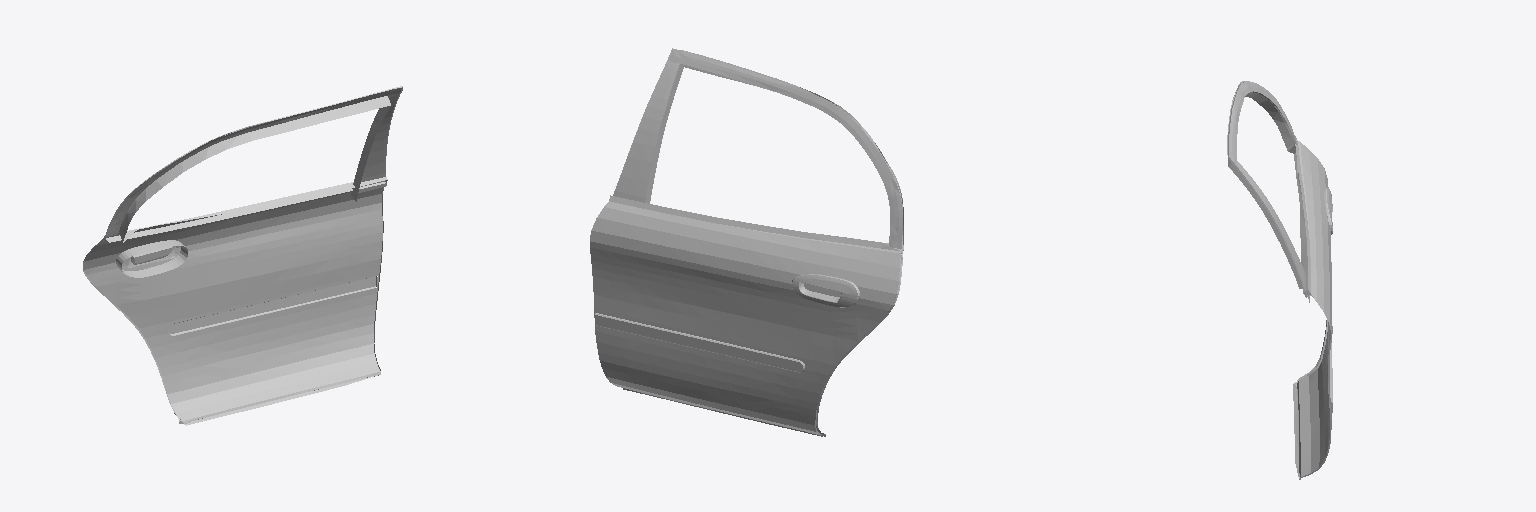
3 renders of one model, left to right at view 1: azimuth 30°, elevation 25°; view 2: azimuth 150°, elevation 25°; view 3: azimuth 270°, elevation 25°, orthographic.
Parts seen in each view (by area): view 1: P353_20_301B_L_1_DaS_P353_20_301B_L, P353_20_301B_L_P353_20_301B_L_2_D, P353_20_301B_L_1_DaS_P353_20_301B_L_E, P353_20_301B_L_P353_20_301B_L_3_D; view 2: P353_20_301B_L_1_DaS_P353_20_301B_L, P353_20_301B_L_P353_20_301B_L_2_D, P353_20_301B_L_1_DaS_P353_20_301B_L_E, P353_20_301B_L_P353_20_301B_L_3_D; view 3: P353_20_301B_L_1_DaS_P353_20_301B_L, P353_20_301B_L_P353_20_301B_L_2_D, P353_20_301B_L_1_DaS_P353_20_301B_L_E.
Boxes of the visible parts, <box> form: P353_20_301B_L_1_DaS_P353_20_301B_L: <box>84,187,382,420</box>; P353_20_301B_L_P353_20_301B_L_2_D: <box>106,86,402,242</box>; P353_20_301B_L_1_DaS_P353_20_301B_L_E: <box>91,187,383,423</box>; P353_20_301B_L_P353_20_301B_L_3_D: <box>83,88,397,425</box>; P353_20_301B_L_1_DaS_P353_20_301B_L: <box>590,201,900,434</box>; P353_20_301B_L_P353_20_301B_L_2_D: <box>609,48,903,253</box>; P353_20_301B_L_1_DaS_P353_20_301B_L_E: <box>595,252,901,436</box>; P353_20_301B_L_P353_20_301B_L_3_D: <box>681,50,903,436</box>; P353_20_301B_L_1_DaS_P353_20_301B_L: <box>1298,141,1332,476</box>; P353_20_301B_L_P353_20_301B_L_2_D: <box>1228,81,1311,302</box>; P353_20_301B_L_1_DaS_P353_20_301B_L_E: <box>1296,205,1332,479</box>.
Bounding box in the file's own units: 119 × 119 × 36.04.